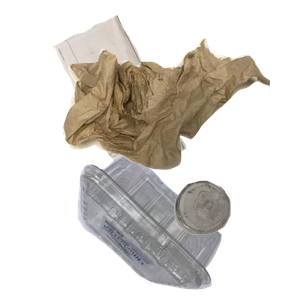glass: (172, 178, 300, 300)
paper: (51, 13, 230, 186)
plastic: (75, 147, 289, 300)
trash: (60, 36, 300, 198)
